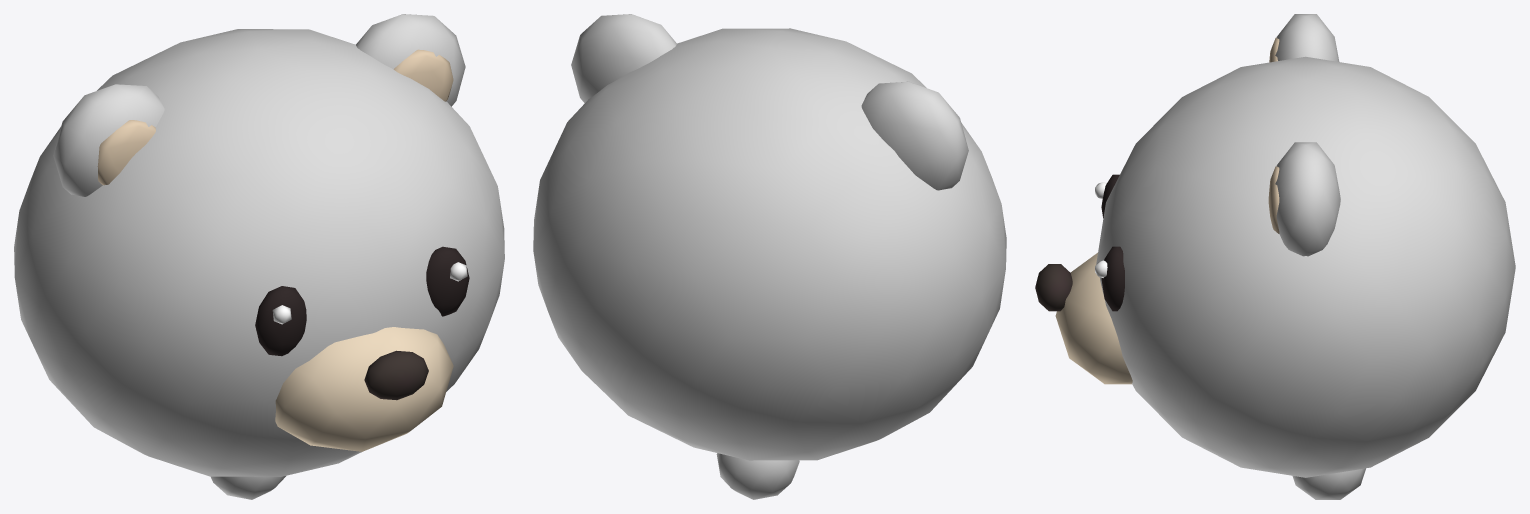
File: animal.bear.glb
3 views of the same model, side by side, from view 1: azimuth 30°, elevation 25°; view 2: azimuth 150°, elevation 25°; view 3: azimuth 270°, elevation 25° (orthographic). The views are drawn at different scales.
Visible parts, largest first — view 1: head, tail; view 2: head, tail; view 3: head, tail.
Boxes of the visible parts, <box> form: head: <box>14,14,504,476</box>; tail: <box>211,476,285,499</box>; head: <box>533,14,1006,460</box>; tail: <box>716,453,799,499</box>; head: <box>1035,14,1515,477</box>; tail: <box>1292,468,1365,499</box>.
Size of the model in its own units: 0.52 by 0.515 by 0.5378.
